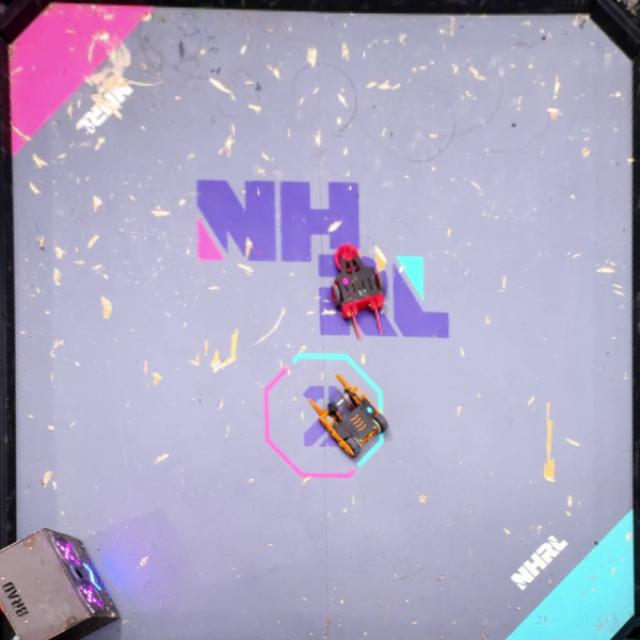housebot: (0, 525, 122, 640)
robot: (310, 372, 390, 459), (329, 242, 385, 338)
